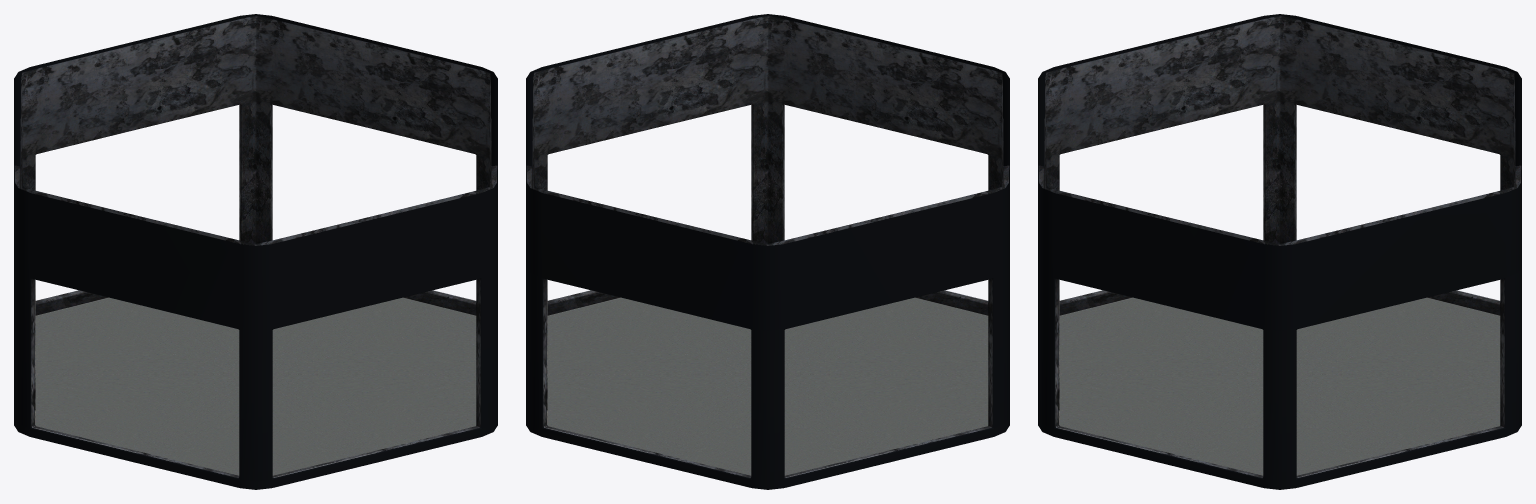
The model's file is virtual_room_hexagonal.fbx.
The picture shows the model from 3 angles, left to right: view 1: azimuth 30°, elevation 25°; view 2: azimuth 150°, elevation 25°; view 3: azimuth 270°, elevation 25°; orthographic projection.
Parts seen in each view (by area): view 1: room; view 2: room; view 3: room.
Part boxes in pixels (x1,y1,x2,y2): room: [14, 14, 497, 489]; room: [526, 14, 1009, 489]; room: [1038, 14, 1521, 489].
Size of the model in its own units: 601 by 296 by 530.
Materials: 1 (1 with a texture image).
